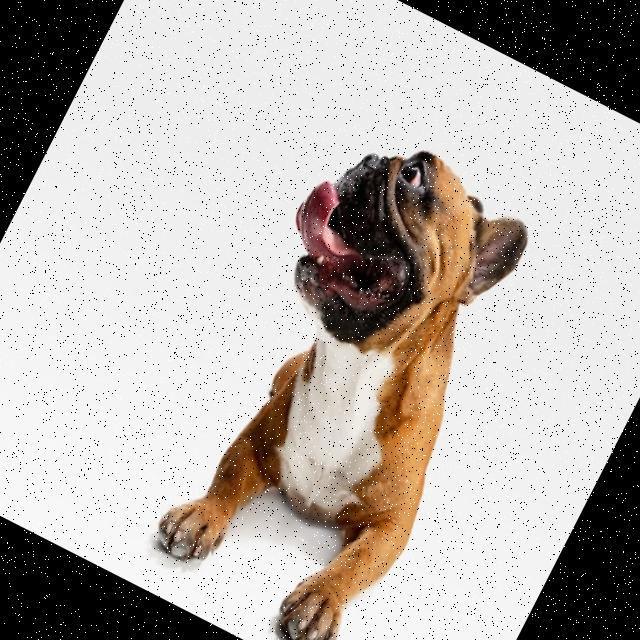Dog: (121, 108, 573, 640)
